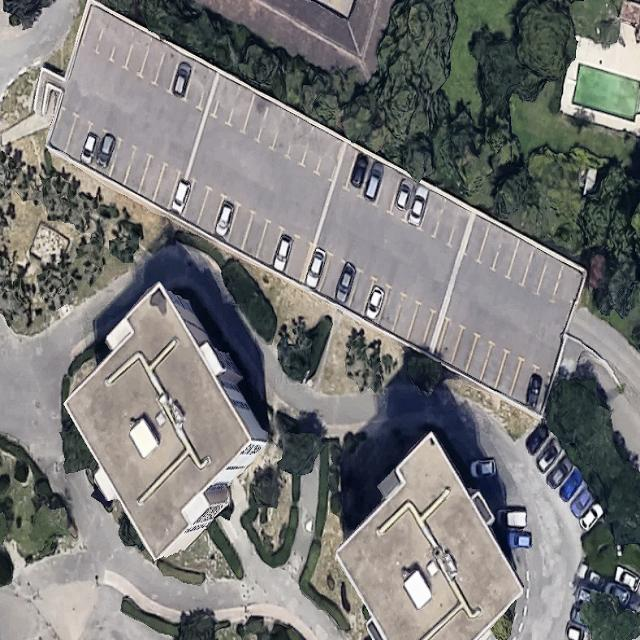immeuble: (21, 274, 306, 568), (301, 430, 534, 640)
